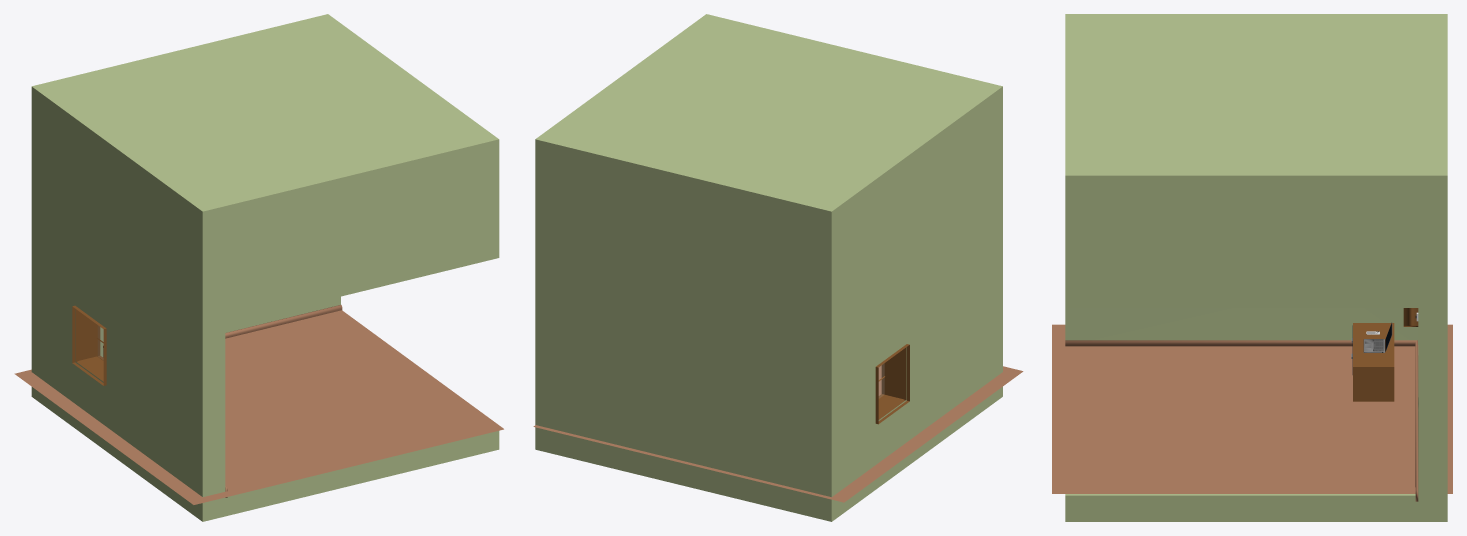
File: room_v11.glb
3 views of the same model, side by side, from view 1: azimuth 30°, elevation 25°; view 2: azimuth 150°, elevation 25°; view 3: azimuth 270°, elevation 25° (orthographic). The views are drawn at different scales.
Parts seen in each view (by area): view 1: walls, Plane.009, window_frame, floor_trim; view 2: walls, Plane.009, window_frame; view 3: walls, Plane.009, desk_top, floor_trim.
Part boxes in pixels (box(x1,y1,x2,y2)): walls: box(31, 14, 499, 521); Plane.009: box(14, 310, 503, 504); window_frame: box(72, 305, 106, 385); floor_trim: box(225, 305, 342, 497); walls: box(535, 14, 1002, 521); Plane.009: box(533, 365, 1023, 502); window_frame: box(875, 344, 909, 424); walls: box(1065, 14, 1447, 521); Plane.009: box(1052, 324, 1452, 493); desk_top: box(1353, 323, 1394, 401); floor_trim: box(1065, 340, 1418, 501).
Size of the model in its own units: 8.37 by 7.97 by 8.35.
